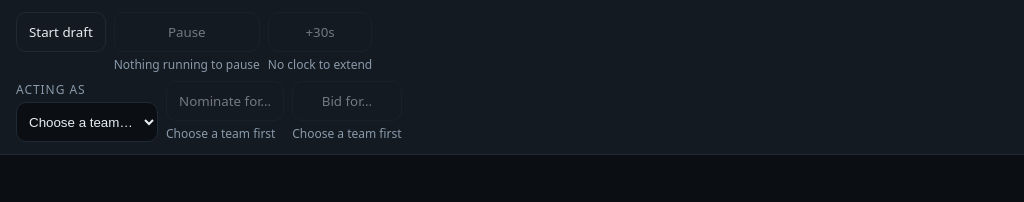
CommissionerBar — start draft › shows the plain NO_PLAYERS message instead of a raw error code
Click the button "Start draft" at [61, 32], box [16, 12, 106, 52]
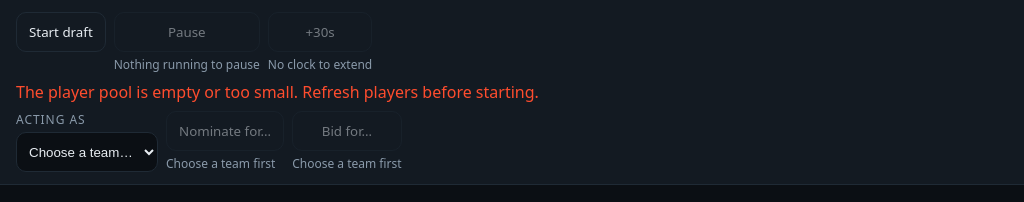
Check: the text "The player pool is empty or too small. Refresh players before starting." is shown, box [16, 81, 539, 103]
